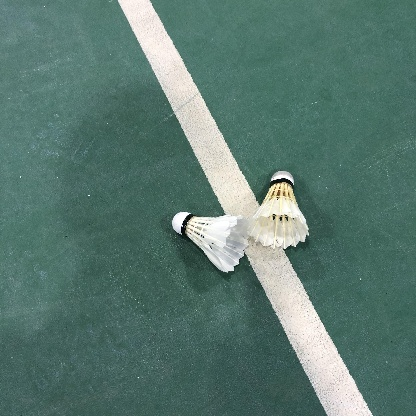ball_single: (247, 170, 309, 249), (172, 212, 252, 273)
